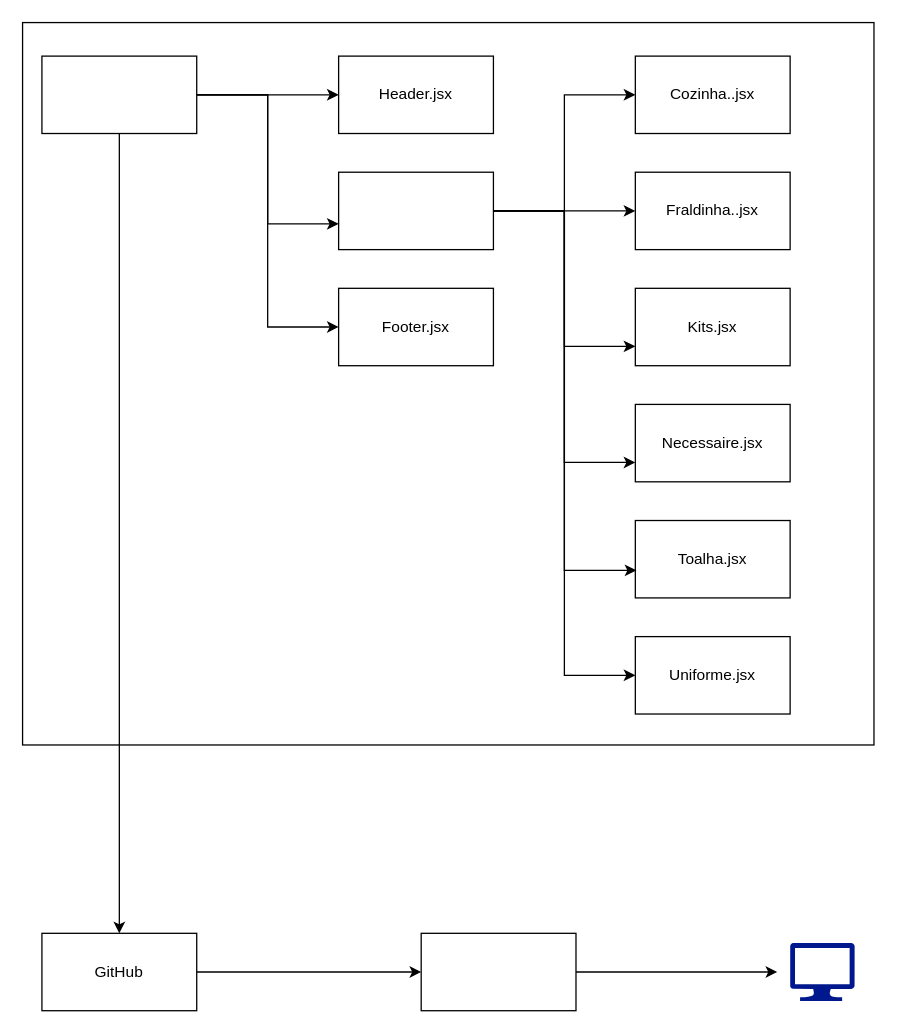
Image size: 897x1033. Some labels were removed from this diagram. The box of each missing label's shape, as (x1, y1, x2, y2) in pixels:
App.jsx: (41, 55, 197, 134)
Body.jsx: (337, 171, 493, 250)
Vercel: (420, 932, 576, 1011)
